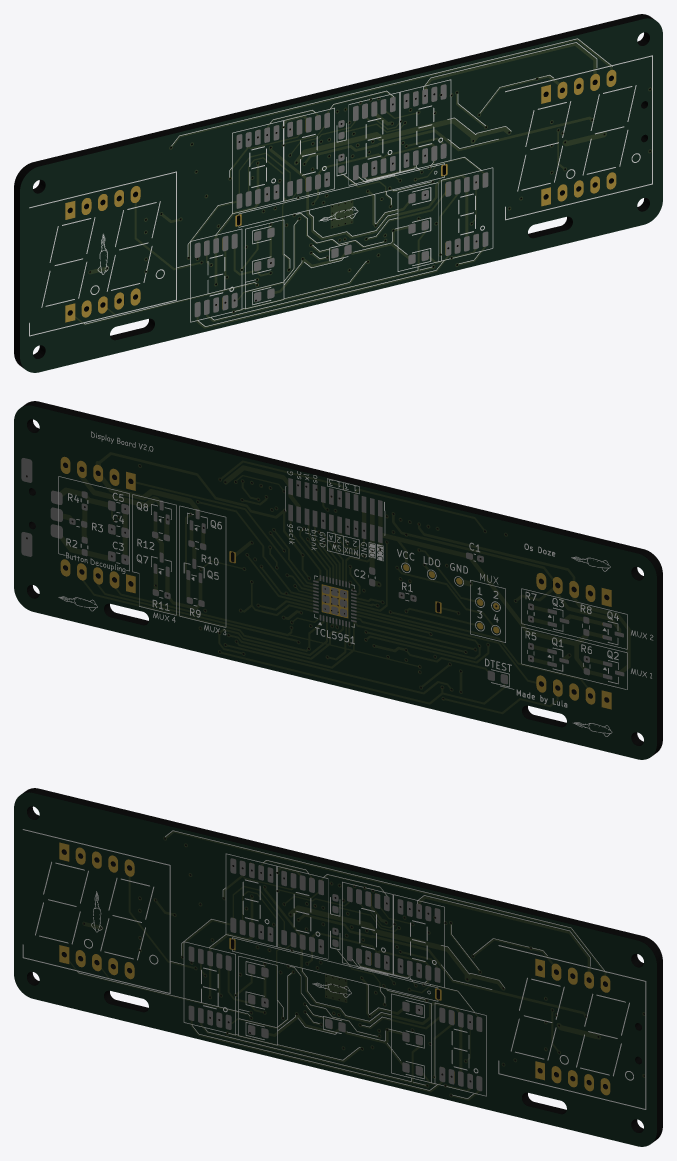
The model's file is display-board-v1.0-bare.glb.
3 renders of one model, top to bottom at view 1: azimuth 30°, elevation 25°; view 2: azimuth 150°, elevation 25°; view 3: azimuth 330°, elevation 25°, orthographic.
Visible parts, largest first — view 1: SHAPE_5, SHAPE_1, SHAPE_9, SHAPE_3, SHAPE_4; view 2: SHAPE_5, SHAPE_1, SHAPE_3, SHAPE_9, SHAPE_4; view 3: SHAPE_5, SHAPE_1, SHAPE_9, SHAPE_3, SHAPE_4.
Boxes of the visible parts, left/top/right/bottom form: SHAPE_5: left=20, top=18, right=662, bottom=372; SHAPE_1: left=14, top=14, right=662, bottom=372; SHAPE_9: left=29, top=38, right=652, bottom=336; SHAPE_3: left=65, top=40, right=651, bottom=327; SHAPE_4: left=194, top=84, right=488, bottom=317; SHAPE_5: left=14, top=405, right=656, bottom=759; SHAPE_1: left=14, top=401, right=662, bottom=759; SHAPE_3: left=60, top=453, right=629, bottom=713; SHAPE_9: left=58, top=431, right=653, bottom=736; SHAPE_4: left=21, top=458, right=624, bottom=684; SHAPE_5: left=14, top=792, right=656, bottom=1146; SHAPE_1: left=14, top=788, right=662, bottom=1146; SHAPE_9: left=22, top=829, right=646, bottom=1109; SHAPE_3: left=59, top=832, right=644, bottom=1099; SHAPE_4: left=188, top=858, right=482, bottom=1091.
Bounding box in the file's own units: 0.1 × 0.0306 × 0.00175.
